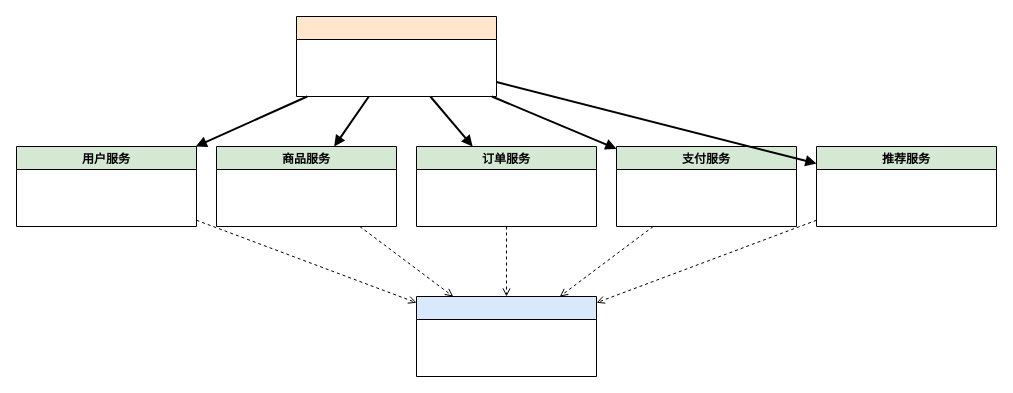
The diagram is 1013 pixels wide and 393 high, and some of its shapes have lost their labels. The shapes that lost their labels are listed below. From the top down, each one's centre as x and y in pixels, then its label:
At pixel 396 56: "API网关".
At pixel 506 336: "服务注册中心".
